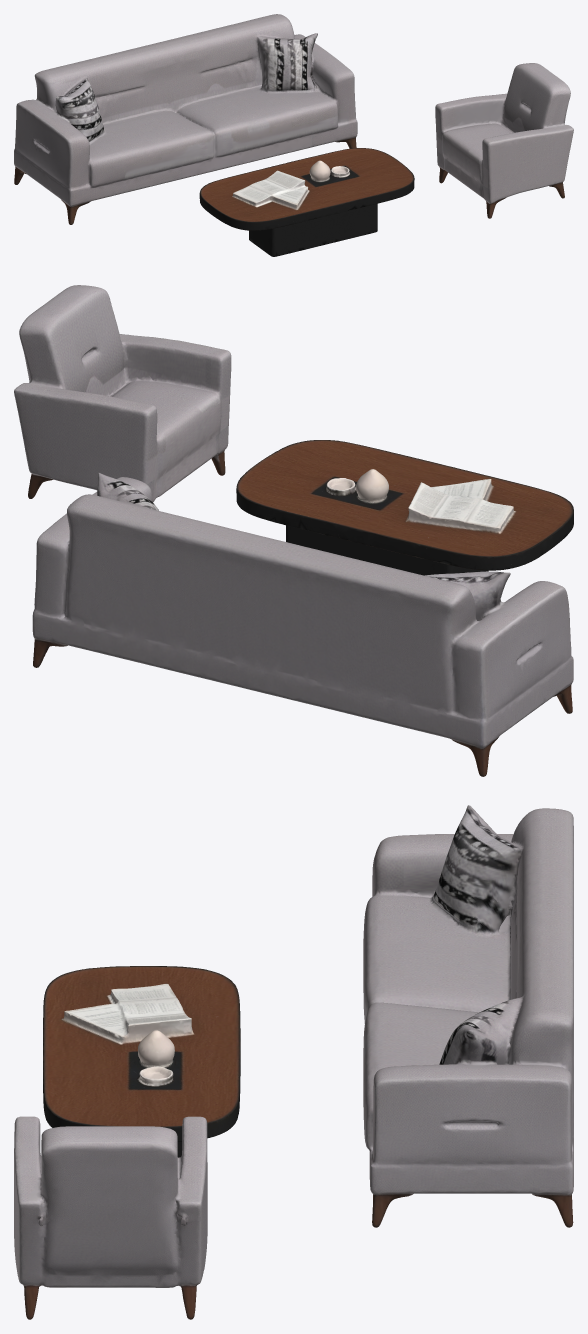
Rendered from koltukT.glb.
3 renders of one model, top to bottom at view 1: azimuth 30°, elevation 25°; view 2: azimuth 150°, elevation 25°; view 3: azimuth 270°, elevation 25°, orthographic. The views are drawn at different scales.
Size of the model in its own units: 1.9 by 0.5207 by 1.27.
Materials: 1 (1 with a texture image).
